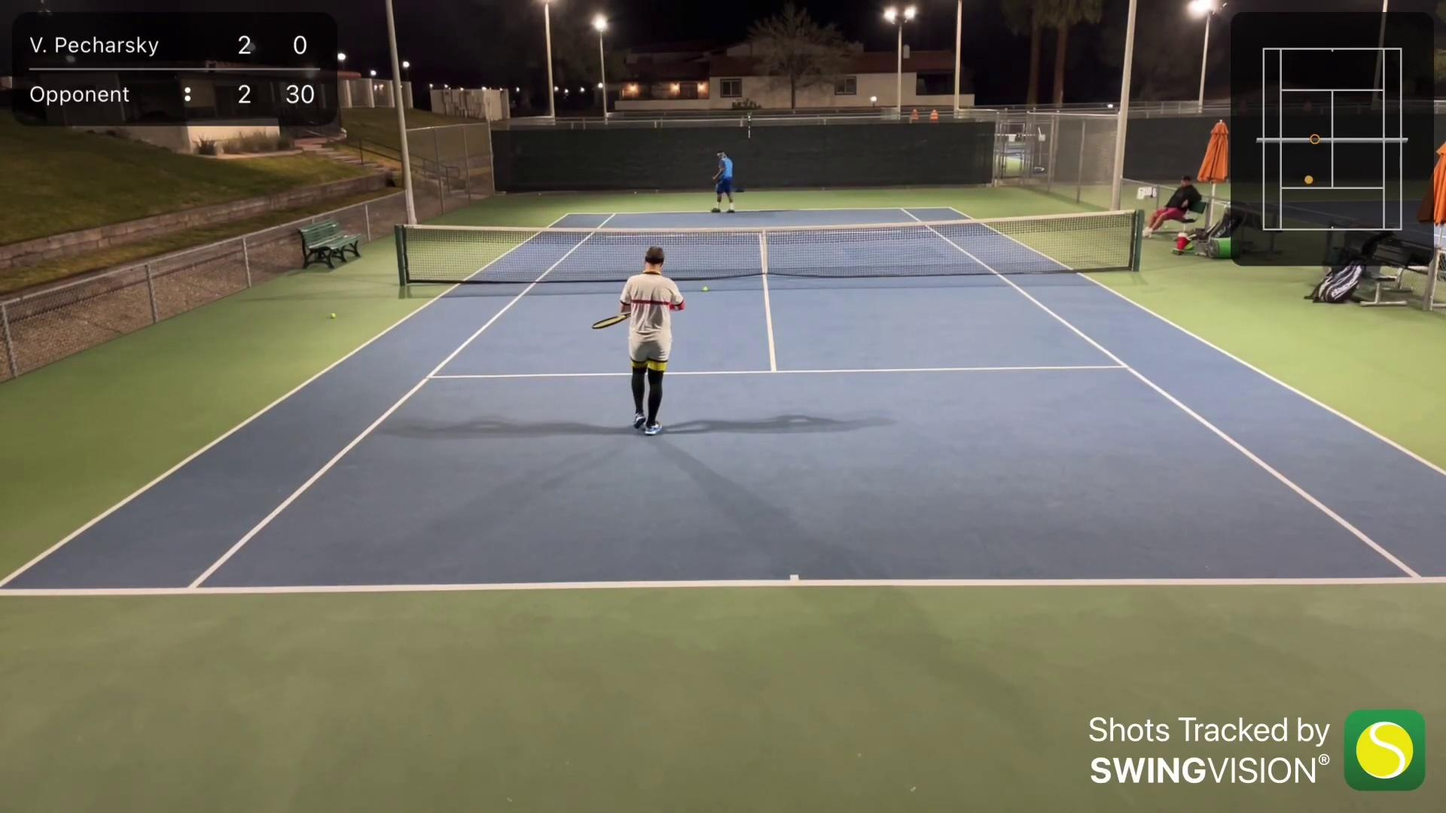ball: (327, 309, 342, 322), (702, 284, 709, 293)
